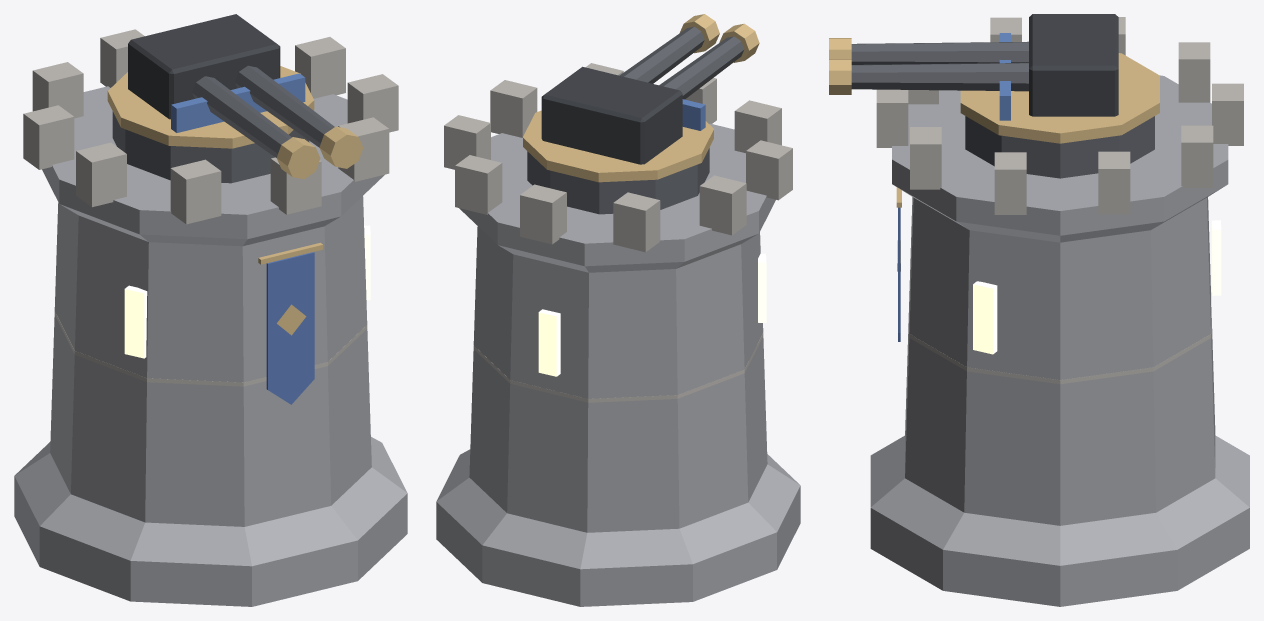
The model's file is bastion.glb.
3 views of the same model, side by side, from view 1: azimuth 30°, elevation 25°; view 2: azimuth 150°, elevation 25°; view 3: azimuth 270°, elevation 25° (orthographic). The views are drawn at different scales.
Parts seen in each view (by area): view 1: bastion, turret; view 2: bastion, turret; view 3: bastion, turret.
Part boxes in pixels (x1,y1,x2,y2): bastion: (14, 29, 407, 606); turret: (107, 14, 363, 183); bastion: (436, 63, 800, 606); turret: (523, 14, 759, 214); bastion: (870, 17, 1249, 606); turret: (829, 14, 1159, 178).
Bounding box in the file's own units: 8.8 × 11.75 × 9.28.
